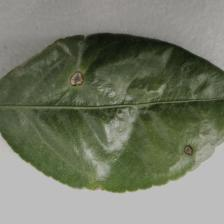canker: (67, 70, 198, 162)
